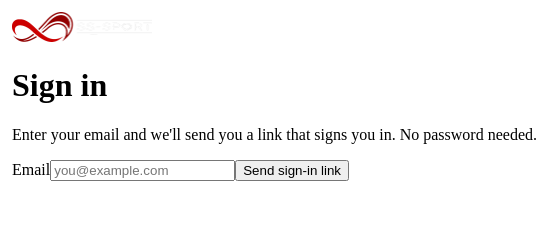
Test: SignInPanel (W-1, P-5 web): asking for a link › says when something went wrong
The image size is (553, 237).
Type "scout@club.com" into the field labelled "Email" at [143, 170], box x1=50 y1=160 x2=235 y2=181
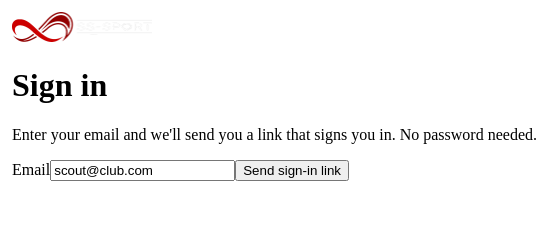
Click the button "Send sign-in link" at [292, 170], box x1=235 y1=160 x2=349 y2=181
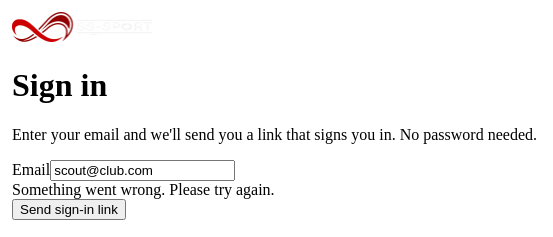
Now the text "Something went wrong. Please try again." is shown, box x1=12 y1=181 x2=275 y2=198
